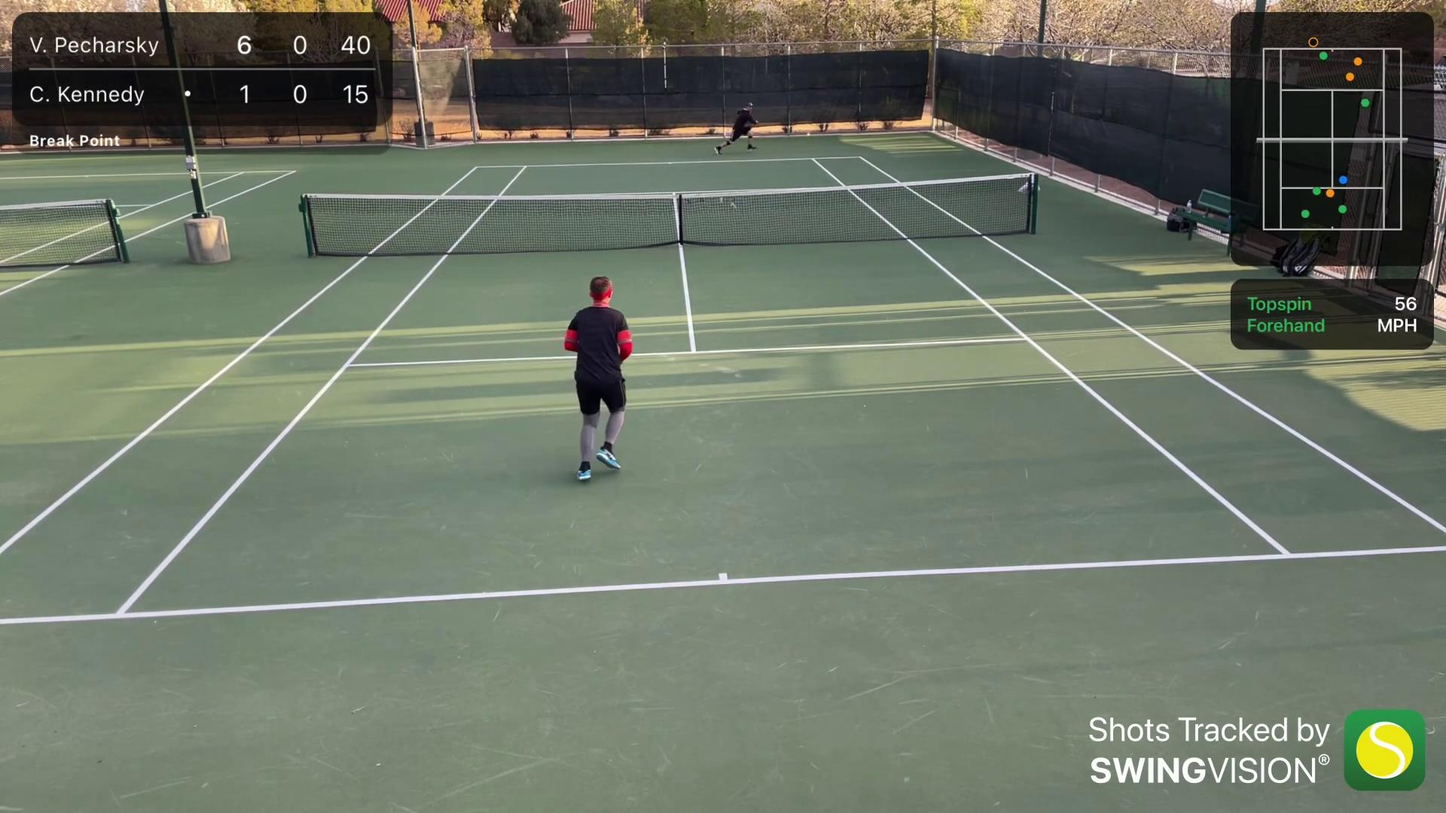ball: (805, 131, 812, 137)
